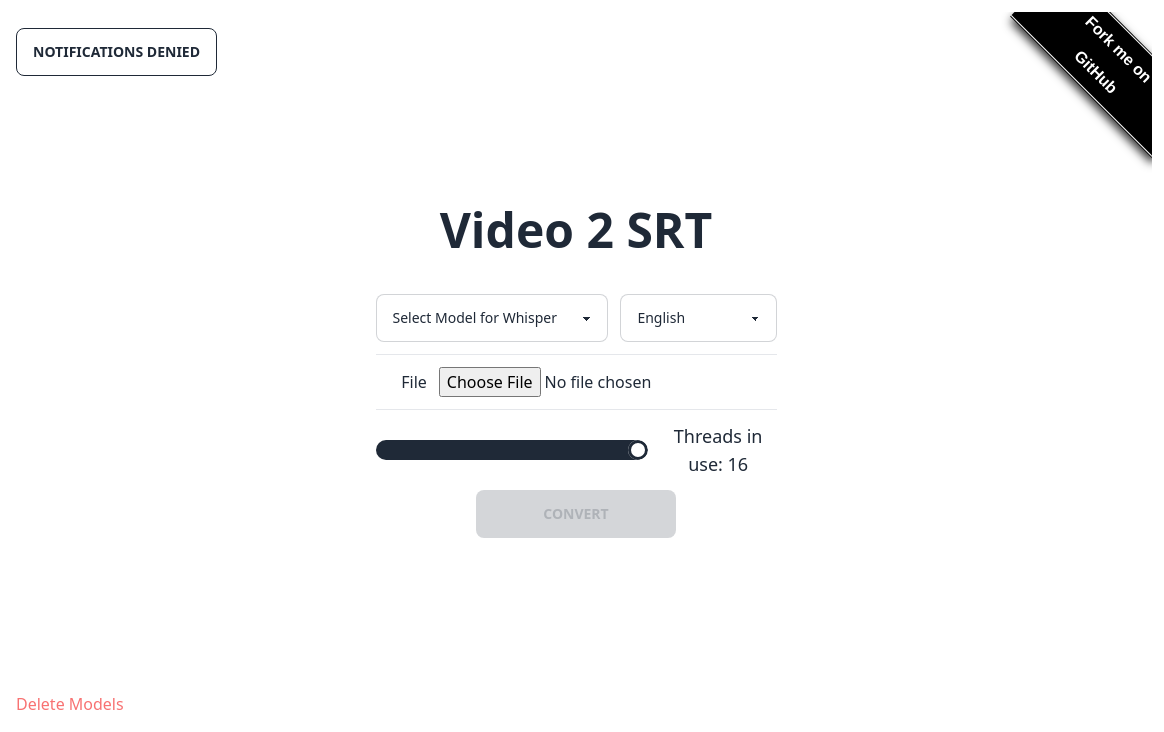
Test: Test if Features are present › Contains Language Selector
# Check if the Checkbox shows up
Step 1. Select "Macedonian" in the dropdown with id "languages" → (698, 318), box [620, 294, 776, 342]
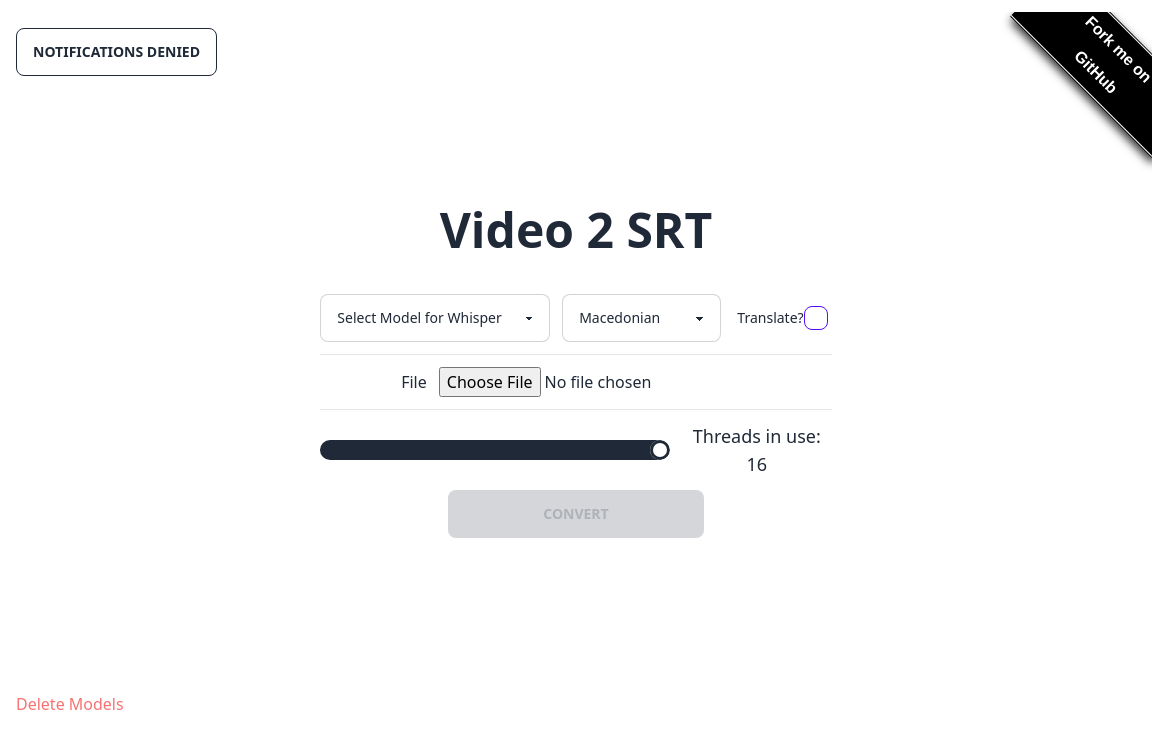
Check: the checkbox labelled "Translate?" is shown, box [804, 306, 828, 330]
